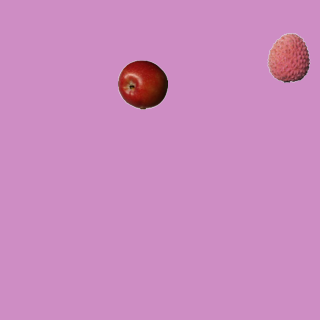Apple Braeburn: (117, 59, 167, 109)
Lychee: (263, 32, 313, 82)
